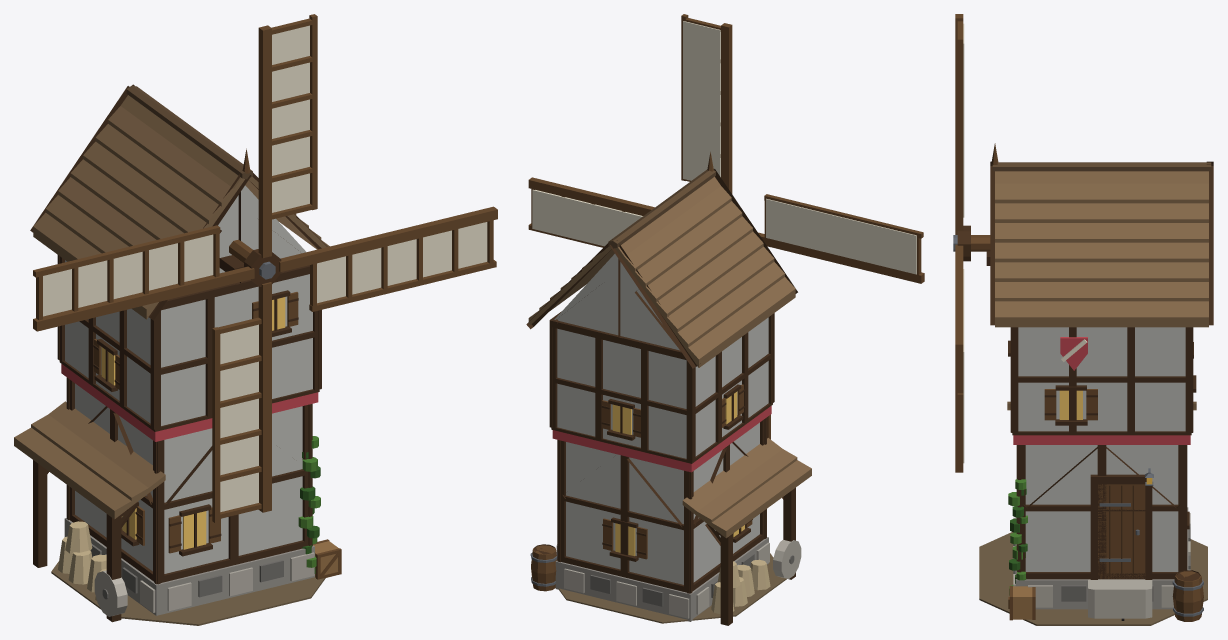
The model's file is mill.obj.
3 views of the same model, side by side, from view 1: azimuth 30°, elevation 25°; view 2: azimuth 150°, elevation 25°; view 3: azimuth 270°, elevation 25° (orthographic). The views are drawn at different scales.
Visible parts, largest first — view 1: Sails.Canvas, Roof, Upper, Walls, Sails.Spar, Shed.Roof, Timber.Post, Sails.Bar, Sails.Rail, Ground, Base, Base.Stone (+16 smaller); view 2: Roof, Sails.Canvas, Upper, Walls, Timber.Post, Shed.Roof, Gable, Sails.Spar, Base, Base.Stone, Timber.Rail, Ground (+15 smaller); view 3: Roof, Upper, Walls, Timber.Post, Ground, Door, Step, Sails.Spar, Roof.Ridge, Door.Frame, Timber.Rail, Band (+17 smaller).
Part boxes in pixels (x1,y1,x2,y2): Sails.Canvas: (43,25,487,511); Roof: (33,95,329,319); Upper: (65,260,312,425); Walls: (75,383,302,573); Sails.Spar: (33,25,497,512); Shed.Roof: (14,401,165,519); Timber.Post: (57,255,321,584); Sails.Bar: (36,18,493,519); Sails.Rail: (33,14,496,523); Ground: (51,561,325,625); Base: (64,518,314,615); Base.Stone: (90,544,314,612); Roof: (528,176,795,367); Sails.Canvas: (532,21,916,274); Upper: (557,317,768,458); Walls: (566,422,759,584); Timber.Post: (549,313,774,593); Shed.Roof: (682,438,811,538); Gable: (554,254,679,350); Sails.Spar: (528,23,924,283); Base: (555,537,768,621); Base.Stone: (564,542,769,618); Timber.Rail: (555,353,771,530); Ground: (558,553,786,623); Roof: (995,171,1208,327); Upper: (1018,327,1185,431); Walls: (1025,445,1178,571); Timber.Post: (1010,327,1193,579); Ground: (979,532,1207,625); Door: (1098,484,1145,579); Step: (1088,579,1152,618); Sails.Spar: (955,14,963,472); Roof.Ridge: (992,162,1211,171); Door.Frame: (1090,474,1152,579); Timber.Rail: (1014,376,1189,511); Band: (1013,435,1190,444).
Size of the model in its own units: 9 by 11.05 by 4.68.
